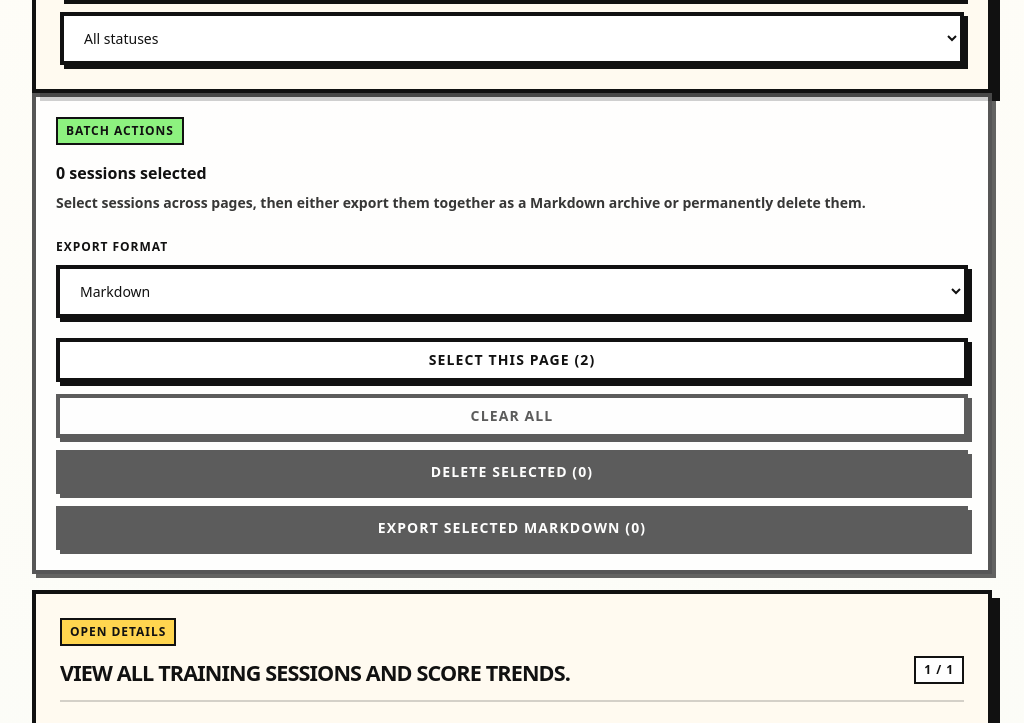
Test: HistoryView › deletes selected sessions in batch and clears the selection
(page scrolled)
Click the button with class "history-select-page-button" at (512, 360), box [56,338,968,382]
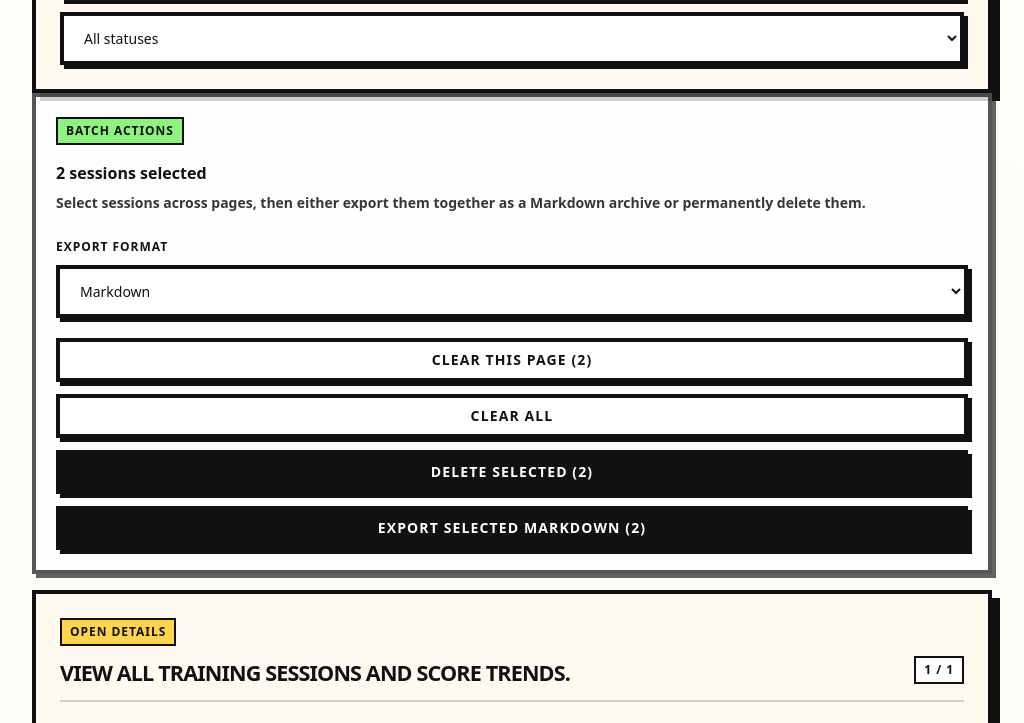
Click the button with class "history-batch-delete-button" at (512, 472), box [56,450,968,494]
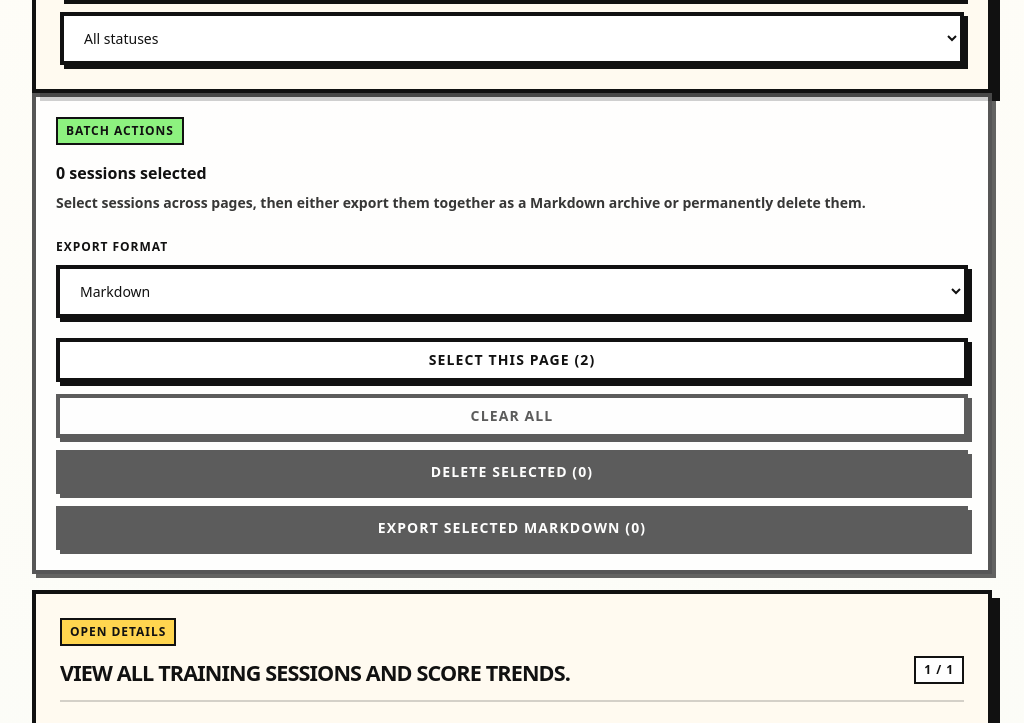
Check: the button with class "history-batch-delete-button" is disabled, box [56,450,968,494]
